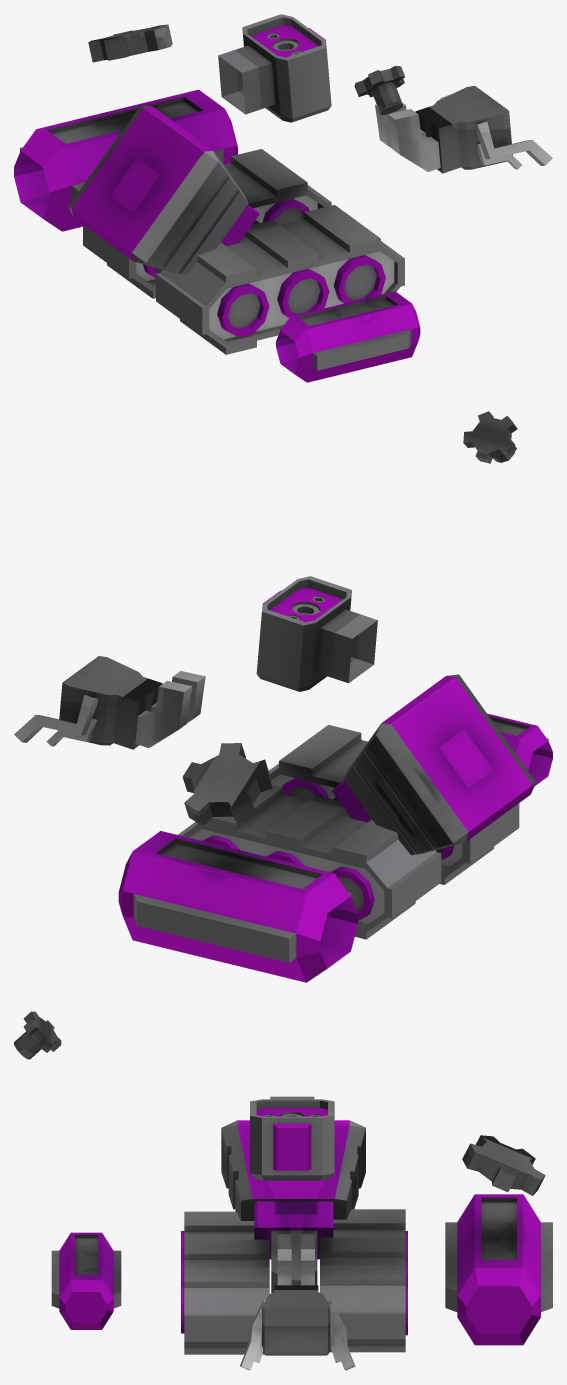
File: Enemy2_Die21.obj
3 renders of one model, top to bottom at view 1: azimuth 30°, elevation 25°; view 2: azimuth 150°, elevation 25°; view 3: azimuth 270°, elevation 25°, orthographic. The views are drawn at different scales.
Parts seen in each view (by area): view 1: Object006, Object013, Object011, Object012, Object014, Object010, Object009, Object008; view 2: Object011, Object006, Object013, Object010, Object012, Object009, Object014, Object008; view 3: Object006, Object011, Object013, Object010, Object012, Object014, Object009, Object008.
Part boxes in pixels (left/top/right/bottom): Object006: left=83, top=149, right=404, bottom=354; Object013: left=68, top=105, right=259, bottom=274; Object011: left=14, top=89, right=237, bottom=231; Object012: left=218, top=14, right=331, bottom=122; Object014: left=276, top=291, right=420, bottom=382; Object010: left=375, top=86, right=552, bottom=173; Object009: left=88, top=24, right=172, bottom=62; Object008: left=354, top=65, right=404, bottom=114; Object011: left=118, top=831, right=357, bottom=982; Object006: left=178, top=725, right=519, bottom=939; Object013: left=332, top=674, right=536, bottom=855; Object010: left=14, top=656, right=205, bottom=749; Object012: left=256, top=576, right=377, bottom=691; Object009: left=182, top=743, right=272, bottom=825; Object014: left=487, top=713, right=552, bottom=785; Object008: left=463, top=411, right=517, bottom=463; Object006: left=181, top=1209, right=407, bottom=1354; Object011: left=445, top=1194, right=552, bottom=1345; Object013: left=221, top=1120, right=365, bottom=1292; Object010: left=239, top=1249, right=355, bottom=1370; Object012: left=250, top=1096, right=334, bottom=1180; Object014: left=51, top=1232, right=121, bottom=1329; Object009: left=462, top=1135, right=545, bottom=1195; Object008: left=14, top=1011, right=61, bottom=1059.
Size of the model in its own units: 182 by 135 by 216.
